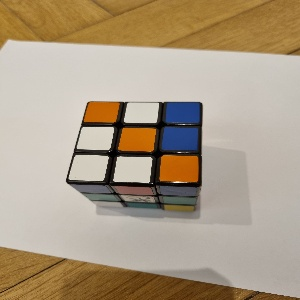cube: (65, 101, 203, 212)
